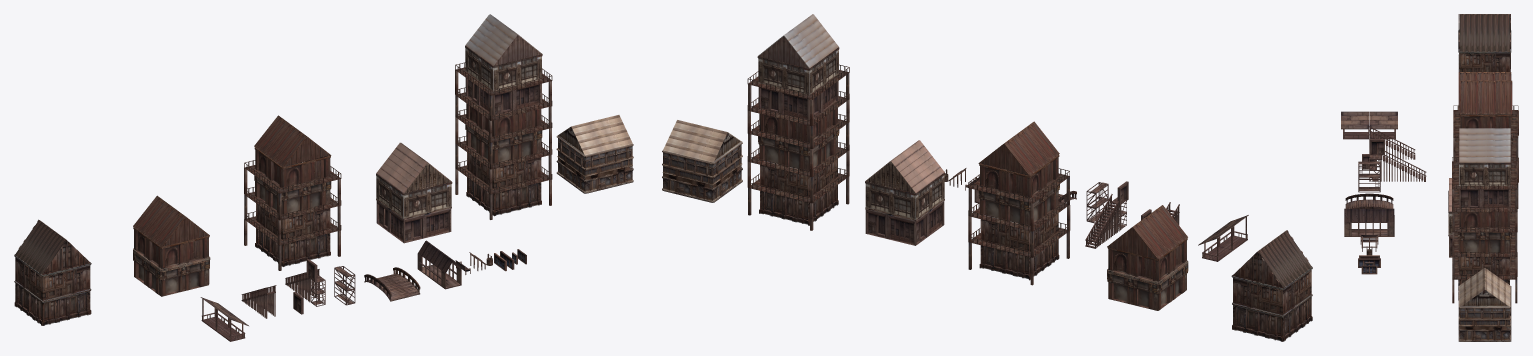
File: FC_Buldings_StreetParts_Pack.fbx
The picture shows the model from 3 angles, left to right: view 1: azimuth 30°, elevation 25°; view 2: azimuth 150°, elevation 25°; view 3: azimuth 270°, elevation 25°; orthographic projection. The views are drawn at different scales.
Parts seen in each view (by area): view 1: FC_Shanty_05, FC_Shanty_03, FC_Shanty_01, FC_Shanty_02, FV_Shanty_04, FC_Shanty_06, FC_Shanty_Bridge_01, FC_Shanty_Bridge_02, FC_Shanty_Stairs_02, FC_Shanty_Stairs_01, FC_Shanty_Scafold_01, FC_Shanty_DeckRailingRoof_01 (+1 smaller); view 2: FC_Shanty_05, FC_Shanty_03, FC_Shanty_01, FC_Shanty_02, FV_Shanty_04, FC_Shanty_06, FC_Shanty_Stairs_02, FC_Shanty_Scafold_01, FC_Shanty_DeckRailingRoof_02, FC_Shanty_DeckRailingRoof_01; view 3: FC_Shanty_05, FC_Shanty_06, FC_Shanty_03, FC_Shanty_01, FC_Shanty_Bridge_01, FC_Shanty_Stairs_02, FC_Shanty_DeckRailingRoof_01, FC_Shanty_DeckRailingRoof_02, FC_Shanty_Bridge_02, FC_Shanty_02, FC_Shanty_Scafold_01, FC_Shanty_Stairs_01 (+3 smaller).
Boxes of the visible parts, x1,y1,x2,y2 form: FC_Shanty_05: [455, 14, 552, 219]; FC_Shanty_03: [244, 115, 341, 270]; FC_Shanty_01: [14, 219, 91, 325]; FC_Shanty_02: [133, 195, 210, 296]; FV_Shanty_04: [376, 142, 452, 243]; FC_Shanty_06: [556, 115, 633, 193]; FC_Shanty_Bridge_01: [417, 240, 461, 289]; FC_Shanty_Bridge_02: [364, 267, 420, 301]; FC_Shanty_Stairs_02: [285, 259, 325, 306]; FC_Shanty_Stairs_01: [241, 285, 276, 318]; FC_Shanty_Scafold_01: [334, 266, 355, 305]; FC_Shanty_DeckRailingRoof_01: [216, 308, 248, 341]; FC_Shanty_05: [747, 14, 849, 230]; FC_Shanty_03: [968, 121, 1070, 285]; FC_Shanty_01: [1231, 230, 1312, 341]; FC_Shanty_02: [1107, 205, 1188, 310]; FV_Shanty_04: [865, 140, 945, 245]; FC_Shanty_06: [662, 120, 742, 202]; FC_Shanty_Stairs_02: [1085, 181, 1128, 248]; FC_Shanty_Scafold_01: [1086, 182, 1108, 223]; FC_Shanty_DeckRailingRoof_02: [1198, 226, 1232, 261]; FC_Shanty_DeckRailingRoof_01: [1215, 215, 1248, 250]; FC_Shanty_05: [1452, 128, 1517, 303]; FC_Shanty_06: [1458, 268, 1511, 341]; FC_Shanty_03: [1453, 80, 1518, 208]; FC_Shanty_01: [1458, 14, 1511, 80]; FC_Shanty_Bridge_01: [1344, 208, 1394, 236]; FC_Shanty_Stairs_02: [1369, 139, 1426, 181]; FC_Shanty_DeckRailingRoof_01: [1341, 111, 1369, 139]; FC_Shanty_DeckRailingRoof_02: [1369, 111, 1397, 139]; FC_Shanty_Bridge_02: [1345, 193, 1393, 208]; FC_Shanty_02: [1458, 72, 1511, 109]; FC_Shanty_Scafold_01: [1358, 161, 1380, 192]; FC_Shanty_Stairs_01: [1369, 126, 1415, 159].
Bounding box in the file's own units: 2495 × 727 × 706.
